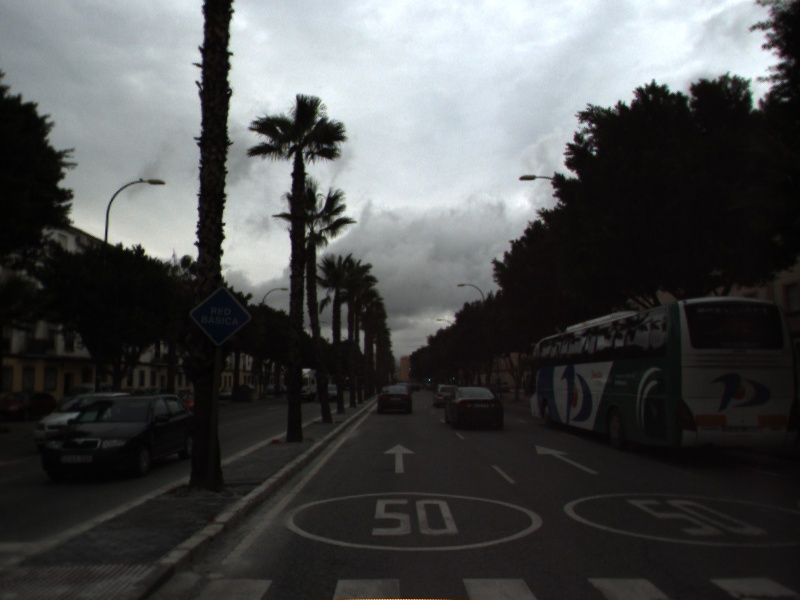STRAIGHT: (533, 443, 603, 477), (381, 441, 418, 475)
